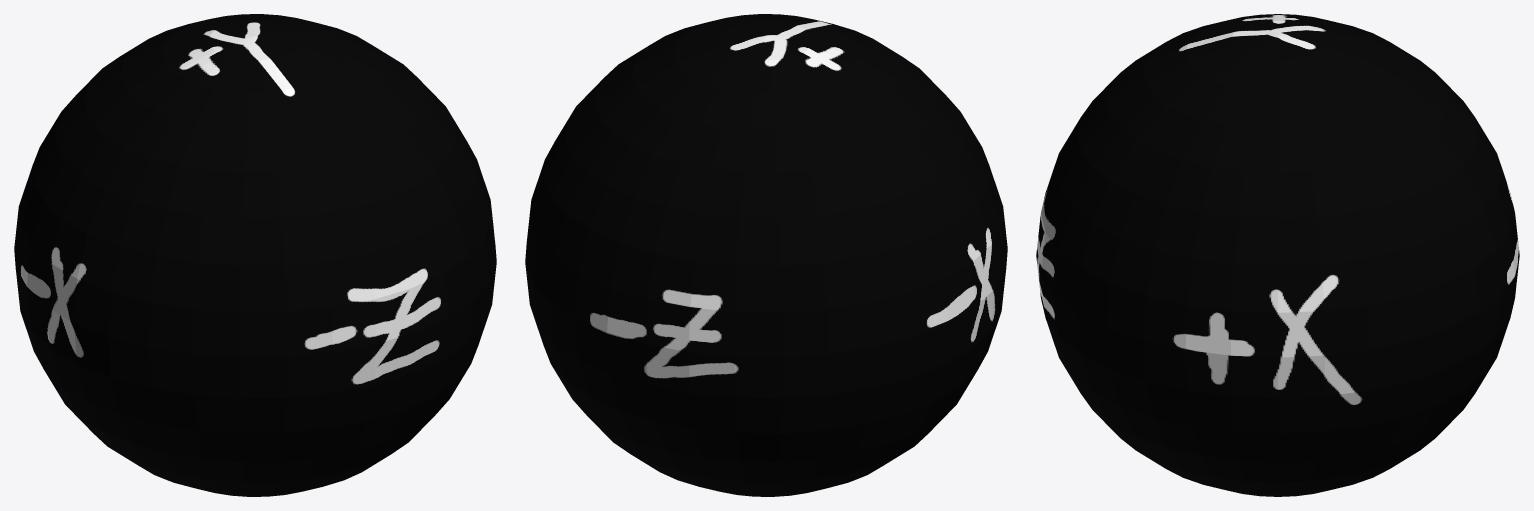
The model's file is DefaultSphere.obj.
3 renders of one model, left to right at view 1: azimuth 30°, elevation 25°; view 2: azimuth 150°, elevation 25°; view 3: azimuth 270°, elevation 25°, orthographic.
Visible parts, largest first — view 1: DefaultSphere; view 2: DefaultSphere; view 3: DefaultSphere.
Boxes of the visible parts, x1=… form: DefaultSphere: x1=14, y1=14, x2=496, y2=496; DefaultSphere: x1=525, y1=14, x2=1007, y2=496; DefaultSphere: x1=1036, y1=14, x2=1519, y2=496.
Size of the model in its own units: 2 by 2 by 2.
Materials: 1 (1 with a texture image).
